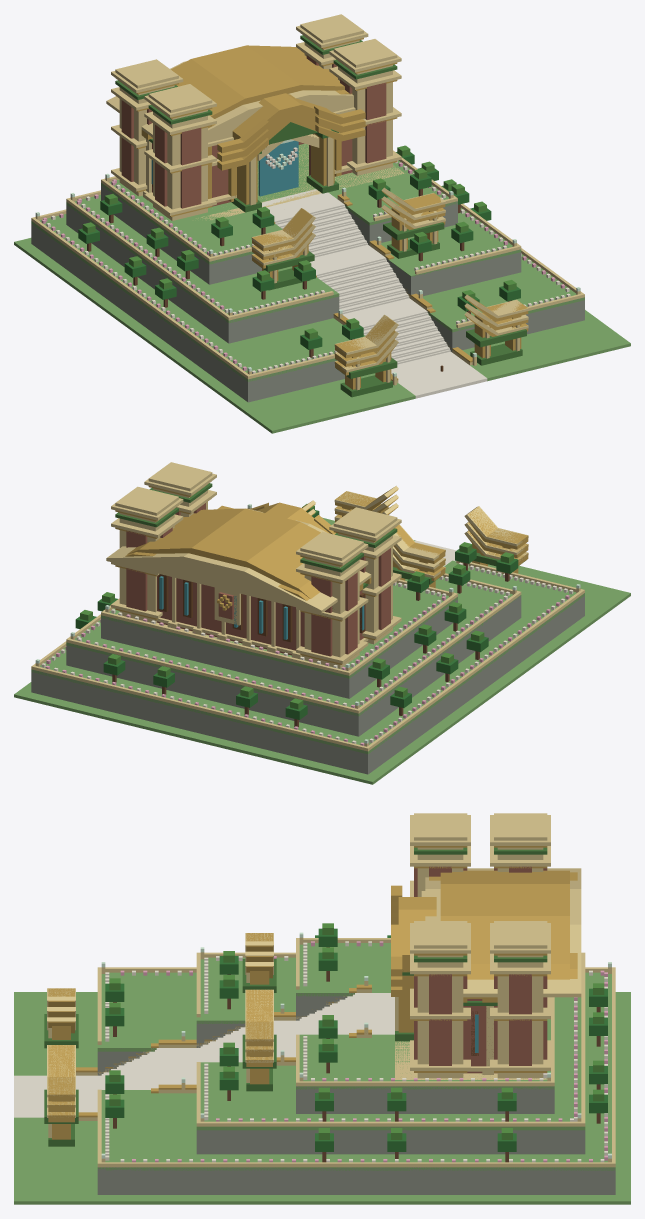
Rendered from indigo-plateau.glb.
The picture shows the model from 3 angles, top to bottom: view 1: azimuth 30°, elevation 25°; view 2: azimuth 150°, elevation 25°; view 3: azimuth 270°, elevation 25°; orthographic projection. The views are drawn at different scales.
Visible parts, largest first — view 1: terrain_grass, building_cream, terrain_stone, building_gold, stairs_white, terrain_cream, building_brick, gates_gold, gates_cream, garden_leaf, gates_green, garden_leaf_light (+6 smaller); view 2: terrain_stone, terrain_grass, building_cream, building_gold, terrain_cream, building_brick, garden_leaf, gates_gold, gates_cream, garden_flower, garden_leaf_light, garden_pink (+4 smaller); view 3: terrain_grass, terrain_stone, building_cream, building_gold, terrain_cream, stairs_white, gates_gold, building_brick, garden_leaf, gates_cream, garden_leaf_light, garden_flower (+6 smaller).
Boxes of the visible parts, x1,y1,x2,y2 form: terrain_grass: [14, 143, 630, 433]; building_cream: [106, 14, 404, 220]; terrain_stone: [31, 183, 584, 402]; building_gold: [116, 33, 397, 216]; stairs_white: [262, 189, 487, 398]; terrain_cream: [31, 157, 584, 379]; building_brick: [121, 55, 386, 208]; gates_gold: [252, 191, 528, 389]; gates_cream: [251, 187, 528, 390]; garden_leaf: [78, 152, 520, 349]; gates_green: [254, 222, 526, 397]; garden_leaf_light: [82, 145, 516, 339]; terrain_stone: [31, 594, 584, 774]; terrain_grass: [14, 517, 630, 784]; building_cream: [106, 462, 401, 668]; building_gold: [115, 481, 396, 664]; terrain_cream: [31, 508, 584, 751]; building_brick: [126, 503, 390, 656]; garden_leaf: [75, 510, 518, 719]; gates_gold: [302, 487, 528, 587]; gates_cream: [302, 486, 528, 578]; garden_flower: [41, 562, 573, 743]; garden_leaf_light: [80, 504, 513, 709]; garden_pink: [45, 595, 569, 745]; terrain_grass: [14, 943, 630, 1204]; terrain_stone: [97, 993, 615, 1194]; building_cream: [395, 813, 581, 1079]; building_gold: [391, 846, 577, 1072]; terrain_cream: [97, 938, 615, 1167]; stairs_white: [14, 993, 394, 1117]; gates_gold: [48, 933, 272, 1139]; building_brick: [414, 866, 547, 1073]; garden_leaf: [105, 928, 607, 1151]; gates_cream: [47, 933, 273, 1137]; garden_leaf_light: [109, 923, 604, 1139]; garden_flower: [105, 941, 607, 1162].
Size of the model in its own units: 130 by 64 by 162.
